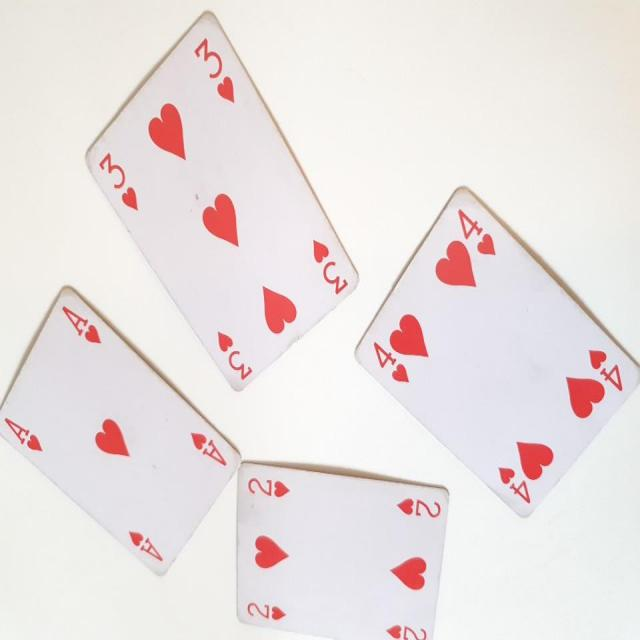2 Hearts: (235, 457, 458, 638)
3 Hearts: (77, 4, 376, 401)
4 Hearts: (352, 179, 640, 532)
A Hearts: (1, 277, 245, 586)
